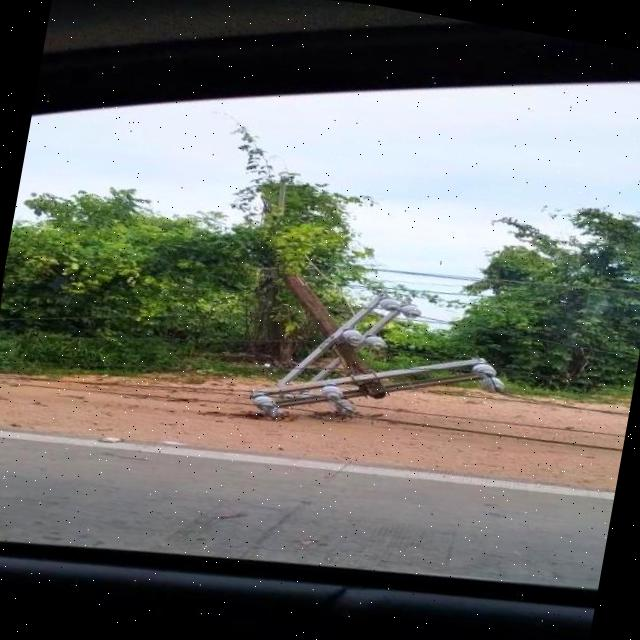Broken Pole: (245, 262, 504, 416)
